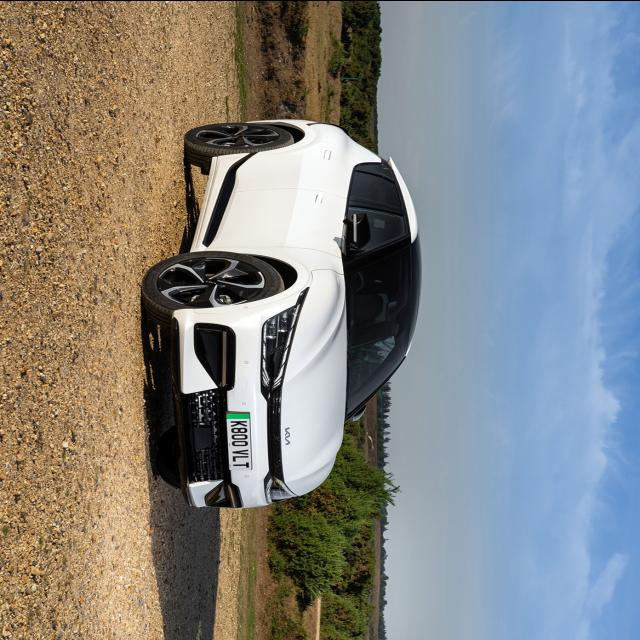car: (137, 116, 435, 508)
